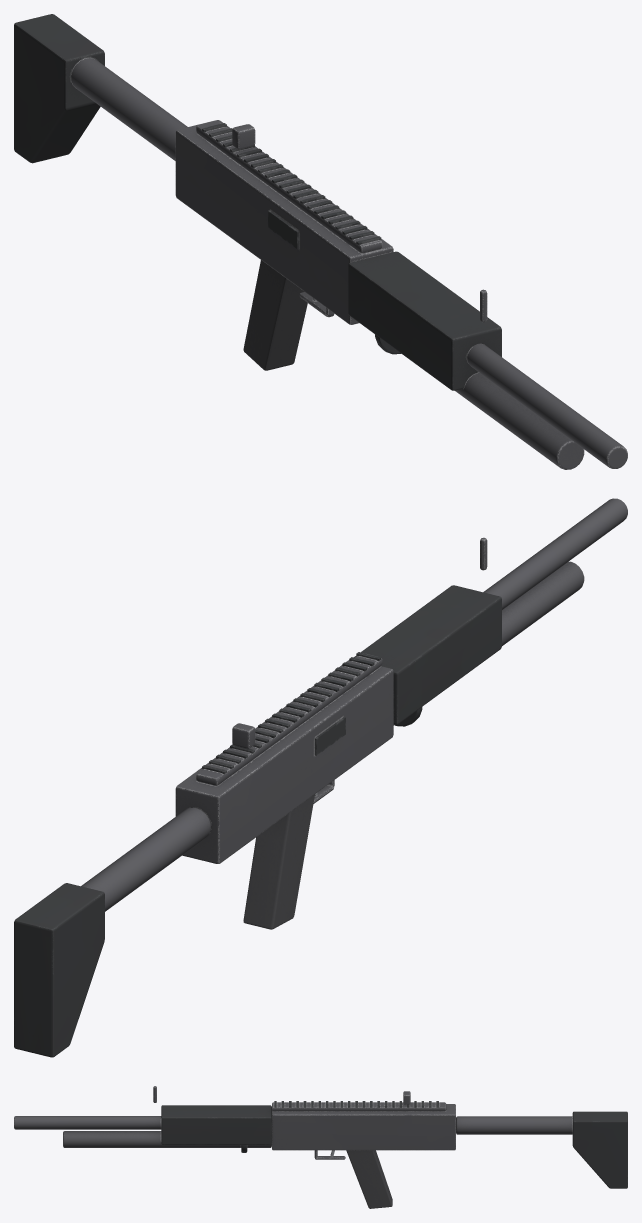
The picture shows the model from 3 angles, top to bottom: view 1: azimuth 30°, elevation 25°; view 2: azimuth 150°, elevation 25°; view 3: azimuth 270°, elevation 25°; orthographic projection. The views are drawn at different scales.
Parts seen in each view (by area): view 1: xm1014; view 2: xm1014; view 3: xm1014.
Part boxes in pixels (x1,y1,x2,y2): xm1014: (14, 14, 627, 469); xm1014: (14, 498, 627, 1057); xm1014: (14, 1086, 627, 1208).
Size of the model in its own units: 0.05 by 0.2144 by 1.
